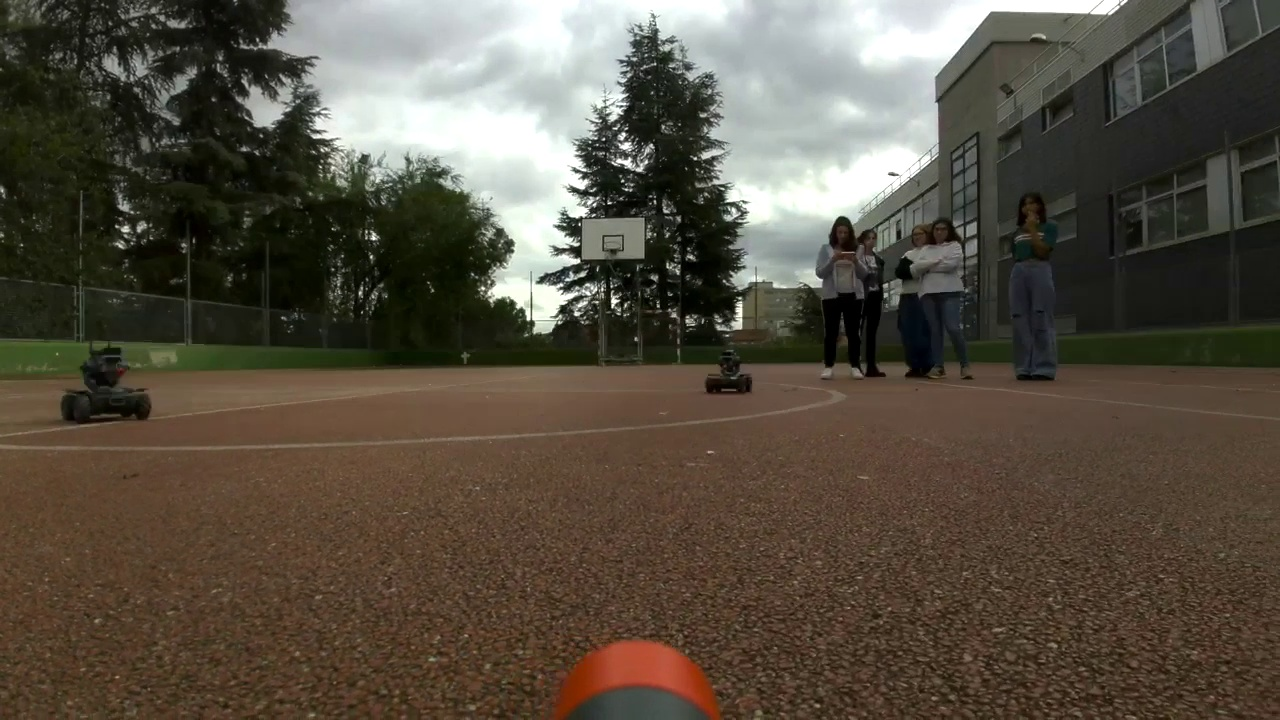robot: (63, 347, 151, 422), (707, 348, 749, 393)
